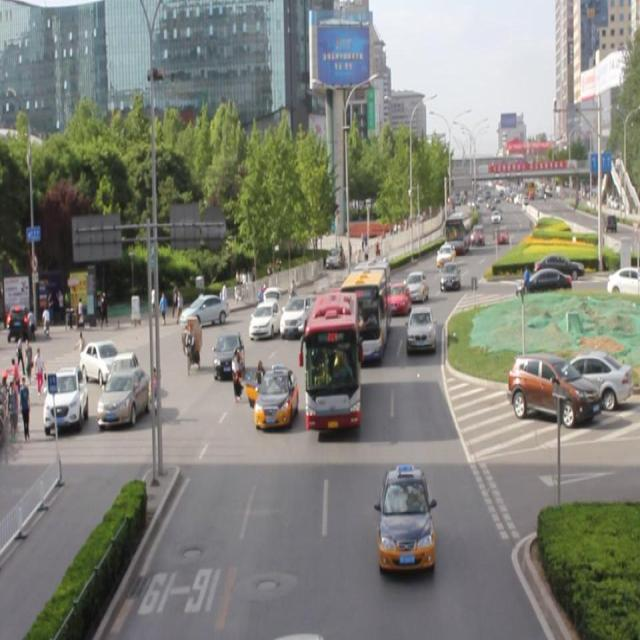car: (378, 465, 432, 572), (252, 366, 296, 430), (279, 291, 313, 336), (214, 328, 244, 378), (406, 304, 434, 354), (324, 278, 364, 312), (249, 297, 281, 338), (402, 270, 427, 302), (386, 279, 408, 314), (438, 258, 460, 292)
van: (305, 290, 359, 430), (341, 259, 390, 363)
